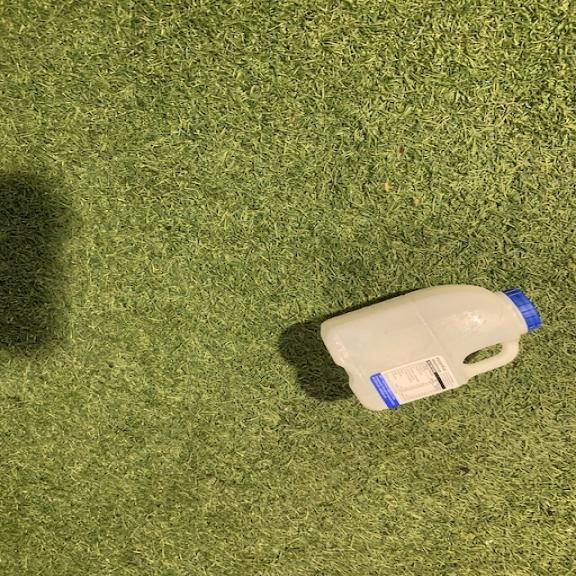Plastik: (316, 286, 539, 413)
